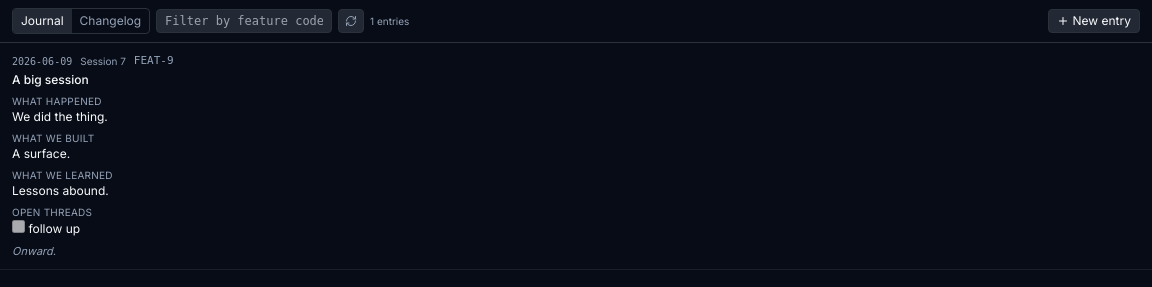
it: JournalView (COCKPIT-9) › toggle switches source to /api/changelog
expect the text "A big session" is shown: met, box [12,72,89,86]
What coordinates should you click on to do the following:
click the button "changelog"
I would click on:
 (110, 21)
Its box is [72,9,149,33].
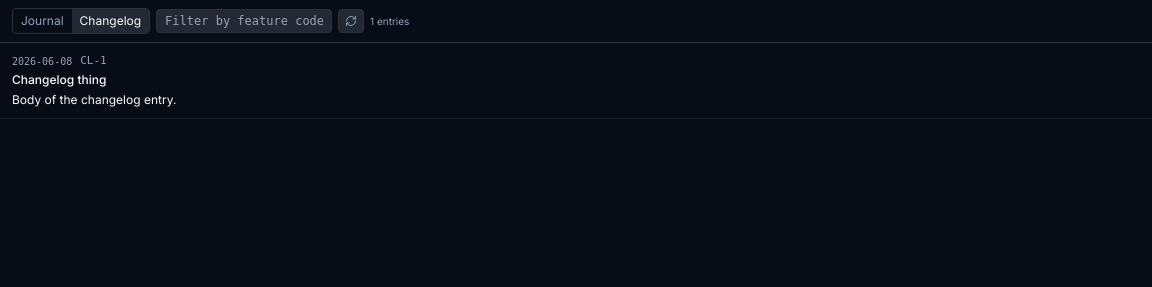
expect the text "Changelog thing" is shown: met, box [12,72,106,86]
